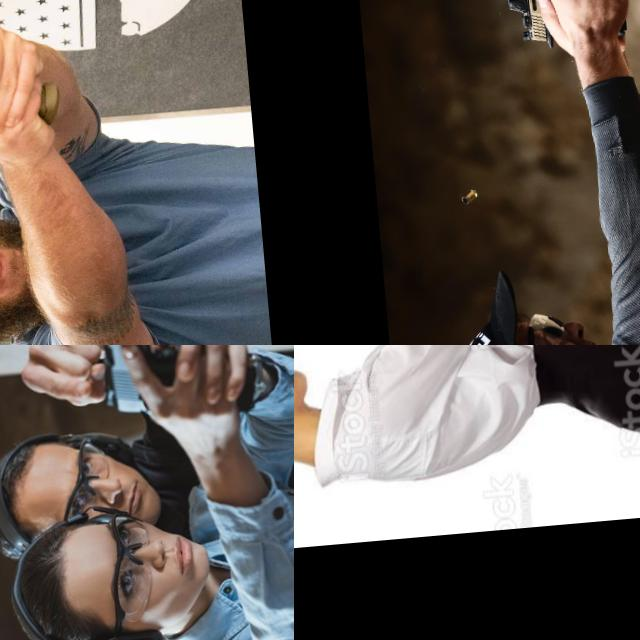handgun: (78, 345, 262, 429), (0, 0, 91, 140), (498, 0, 635, 65), (294, 345, 332, 397)
